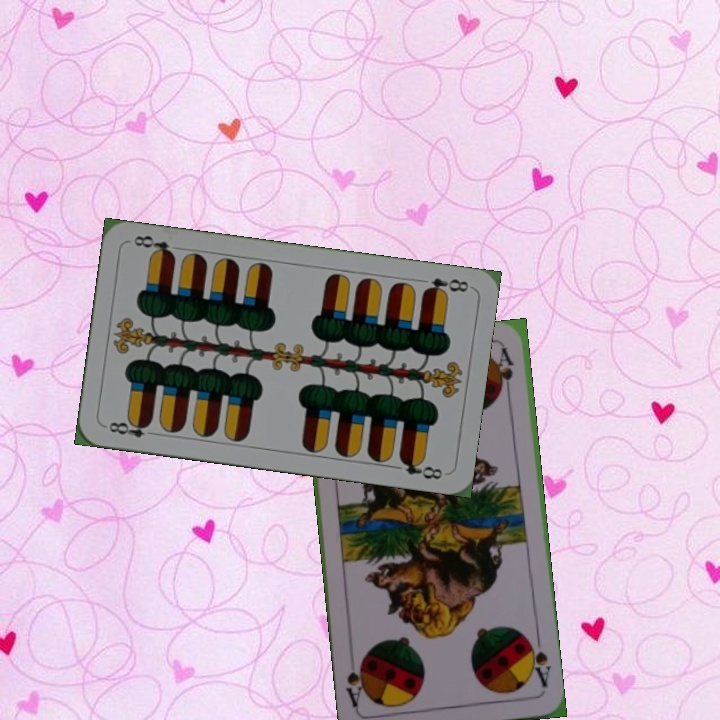E8: (101, 415, 160, 440), (419, 274, 471, 299)
SA: (523, 633, 553, 690)
